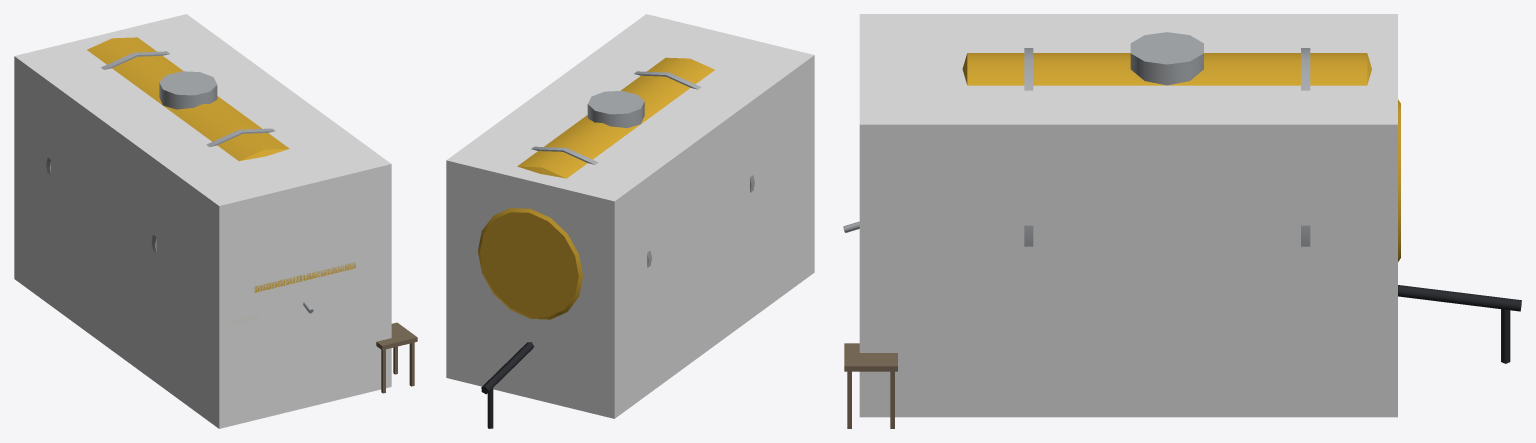
Rendered from kvas.glb.
The picture shows the model from 3 angles, left to right: view 1: azimuth 30°, elevation 25°; view 2: azimuth 150°, elevation 25°; view 3: azimuth 270°, elevation 25°; orthographic projection. The views are drawn at different scales.
Parts seen in each view (by area): view 1: solid, 00_#d8a830, 01_#a8acb0_r320, 06_#7a6a56_r110; view 2: solid, 00_#d8a830, 01_#a8acb0_r320, 02_#2a2c30; view 3: solid, 00_#d8a830, 01_#a8acb0_r320, 02_#2a2c30, 06_#7a6a56_r110.
Part boxes in pixels (left/top/right/bottom): solid: left=14, top=14, right=391, bottom=428; 00_#d8a830: left=87, top=37, right=355, bottom=292; 01_#a8acb0_r320: left=46, top=51, right=313, bottom=313; 06_#7a6a56_r110: left=376, top=322, right=417, bottom=393; solid: left=446, top=14, right=814, bottom=418; 00_#d8a830: left=478, top=57, right=714, bottom=319; 01_#a8acb0_r320: left=531, top=71, right=754, bottom=267; 02_#2a2c30: left=481, top=342, right=534, bottom=428; solid: left=859, top=14, right=1397, bottom=417; 00_#d8a830: left=962, top=53, right=1400, bottom=261; 01_#a8acb0_r320: left=843, top=32, right=1310, bottom=246; 02_#2a2c30: left=1398, top=285, right=1521, bottom=363; 06_#7a6a56_r110: left=844, top=343, right=897, bottom=428.
Size of the model in its own units: 1.91 by 2.25 by 4.41.
